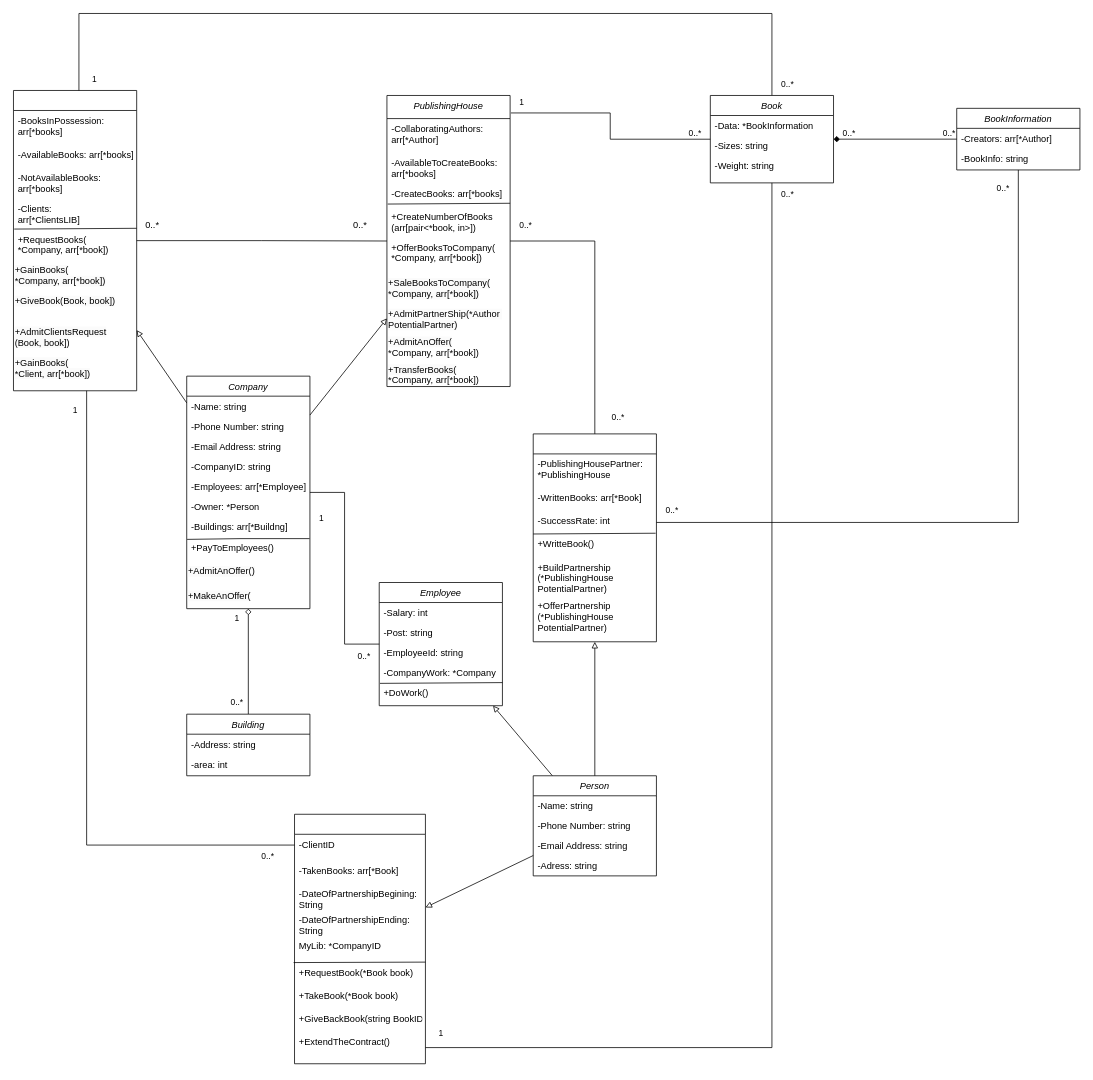
Some shapes in this 1093 by 1080 pixel diagram are drawn without their labels. The shapes that lost their labels are listed below. From the top down, each one's box as (x1, y1, x2, y2) in pixels, then its label:
(13, 90, 137, 391): Library
(532, 433, 656, 642): Author
(294, 814, 425, 1064): ClientLib
